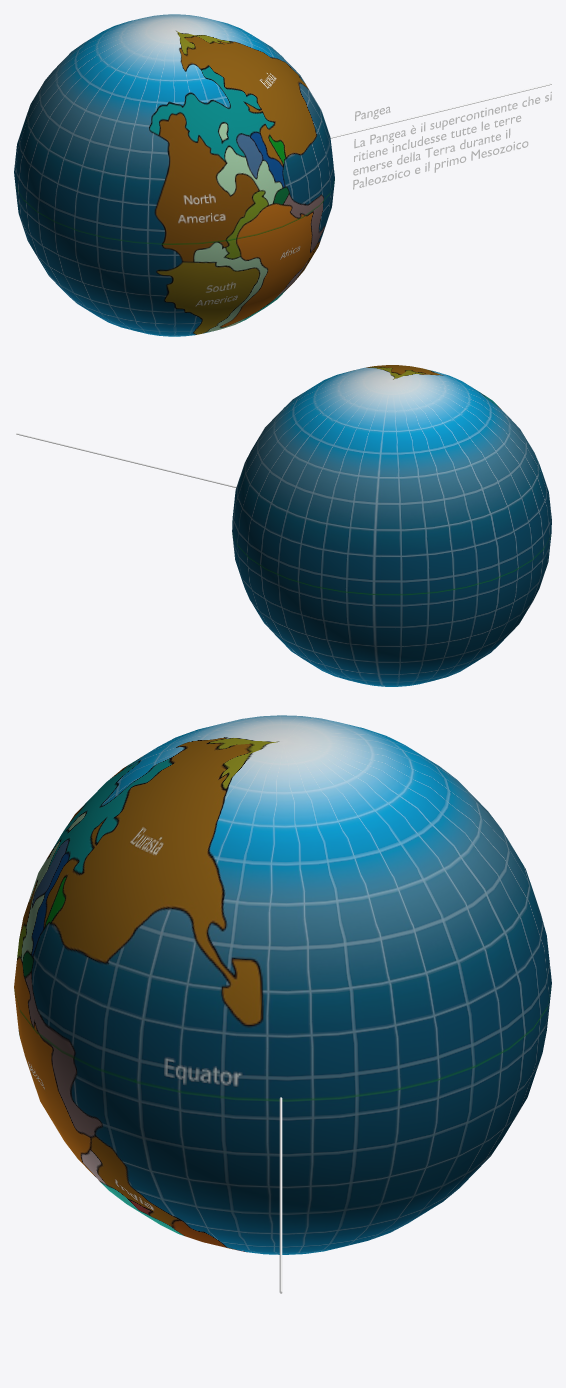
Rendered from Pangeanew.gltf.
The picture shows the model from 3 angles, top to bottom: view 1: azimuth 30°, elevation 25°; view 2: azimuth 150°, elevation 25°; view 3: azimuth 270°, elevation 25°; orthographic projection. The views are drawn at different scales.
Visible parts, largest first — view 1: Sphere, Text, riga; view 2: Sphere, riga; view 3: Sphere, riga.
Part boxes in pixels (box(x1,y1,x2,y2)): Sphere: box(14, 14, 334, 336); Text: box(353, 91, 551, 189); riga: box(330, 83, 551, 138); Sphere: box(232, 365, 551, 686); riga: box(16, 433, 236, 487); Sphere: box(14, 715, 551, 1254); riga: box(279, 1097, 282, 1293).
Size of the model in its own units: 773 by 416 by 416.
Materials: 2 (1 with a texture image).
